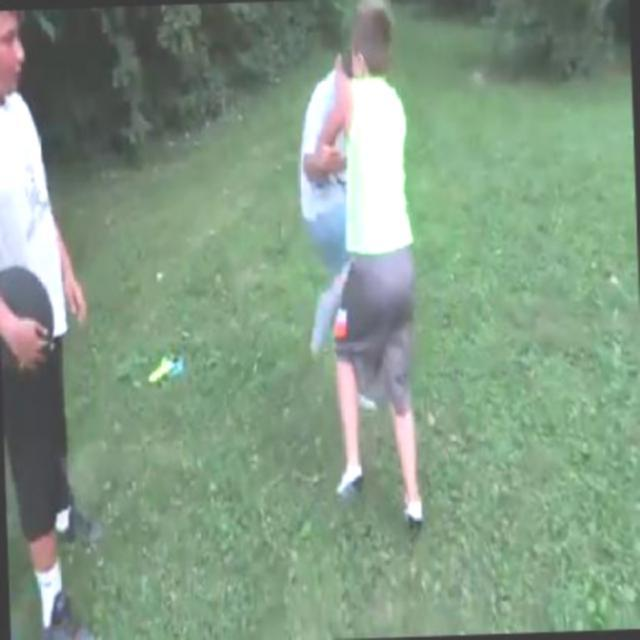fight: (292, 0, 430, 534)
